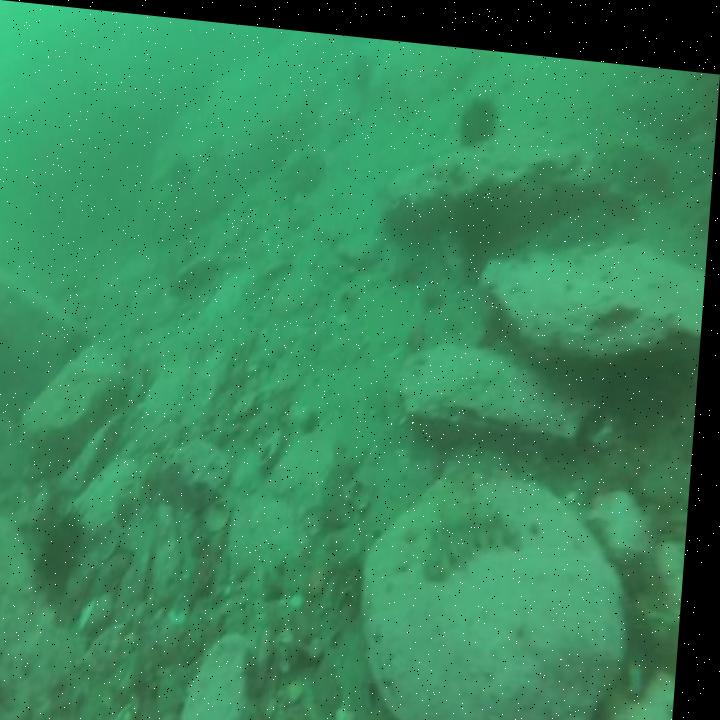echinus: (39, 507, 99, 602), (453, 77, 504, 148), (161, 142, 198, 198), (344, 44, 373, 95)
holothurian: (428, 485, 531, 586)
